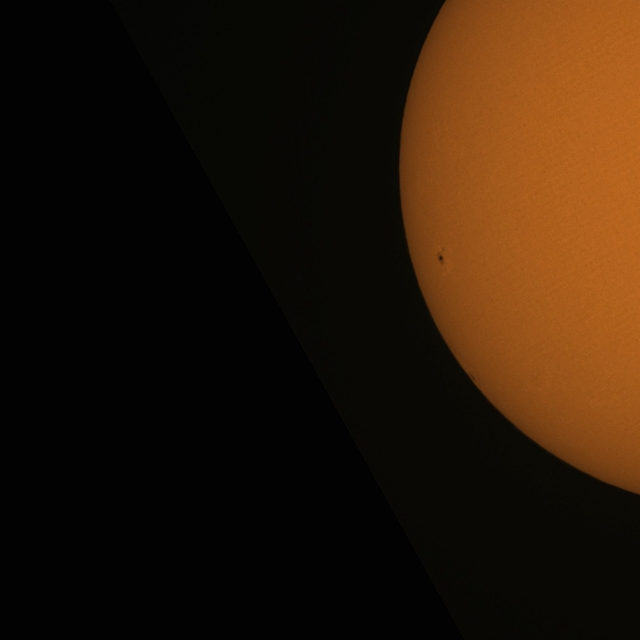sunspot: (436, 246, 447, 266)
